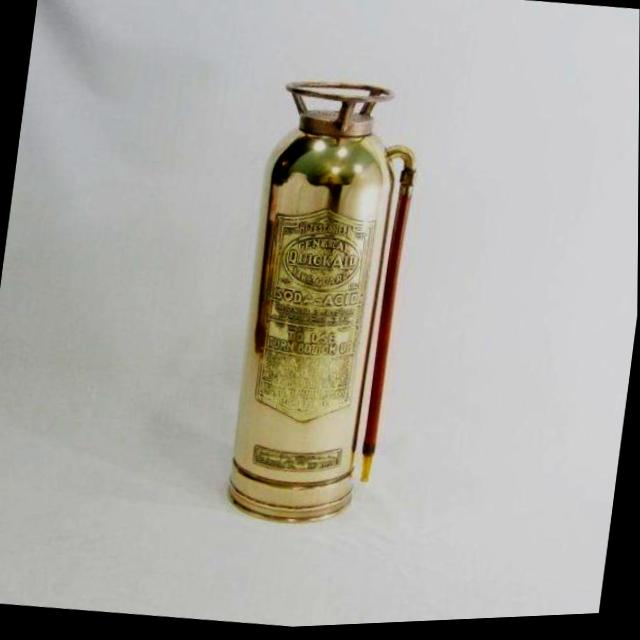FireExtinguisher: (210, 67, 428, 543)
